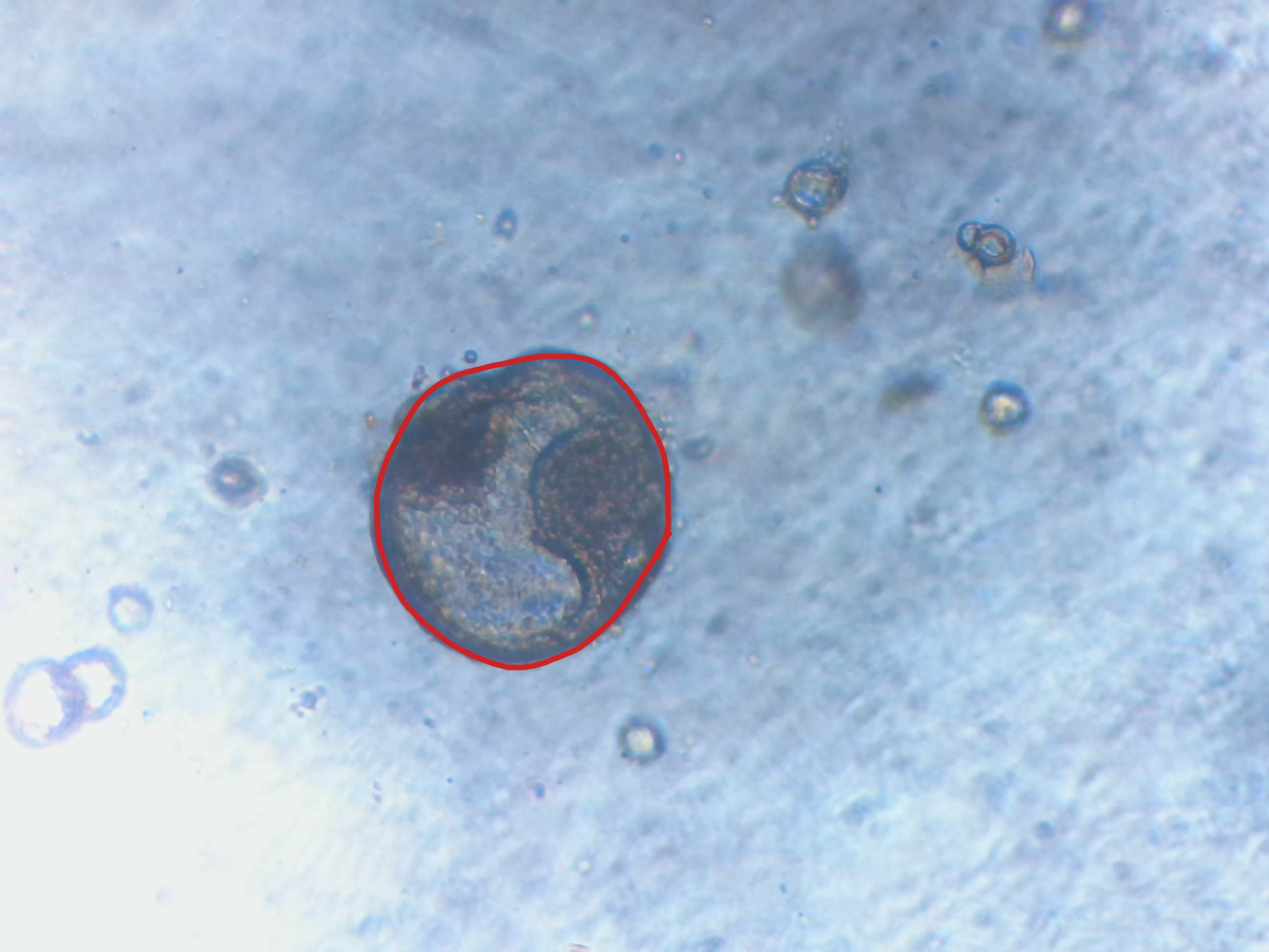organoid: (582, 46, 1168, 555), (733, 311, 916, 492), (421, 392, 531, 482), (547, 228, 602, 285)
